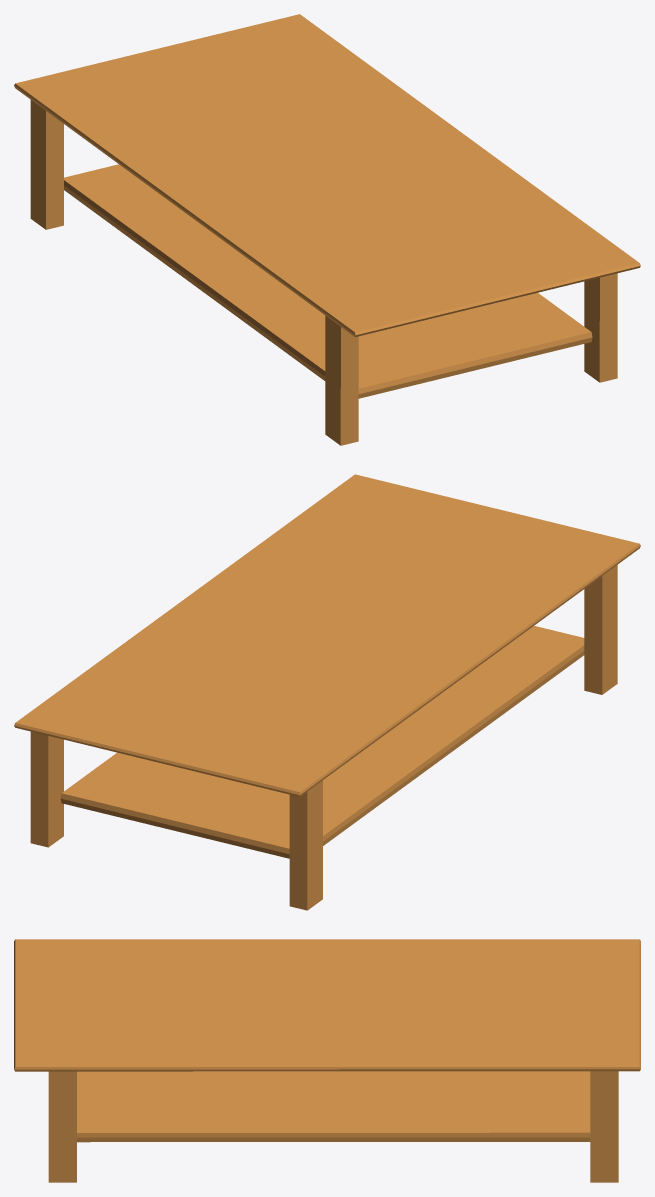
The model's file is table1.gltf.
The picture shows the model from 3 angles, top to bottom: view 1: azimuth 30°, elevation 25°; view 2: azimuth 150°, elevation 25°; view 3: azimuth 270°, elevation 25°; orthographic projection. The views are drawn at different scales.
Parts seen in each view (by area): view 1: Cube_013_Cube.012; view 2: Cube_013_Cube.012; view 3: Cube_013_Cube.012.
Part boxes in pixels (x1,y1,x2,y2): Cube_013_Cube.012: (14,14,640,445); Cube_013_Cube.012: (14,474,640,910); Cube_013_Cube.012: (14,939,640,1182).
Size of the model in its own units: 1.01 by 0.4317 by 2.09.
